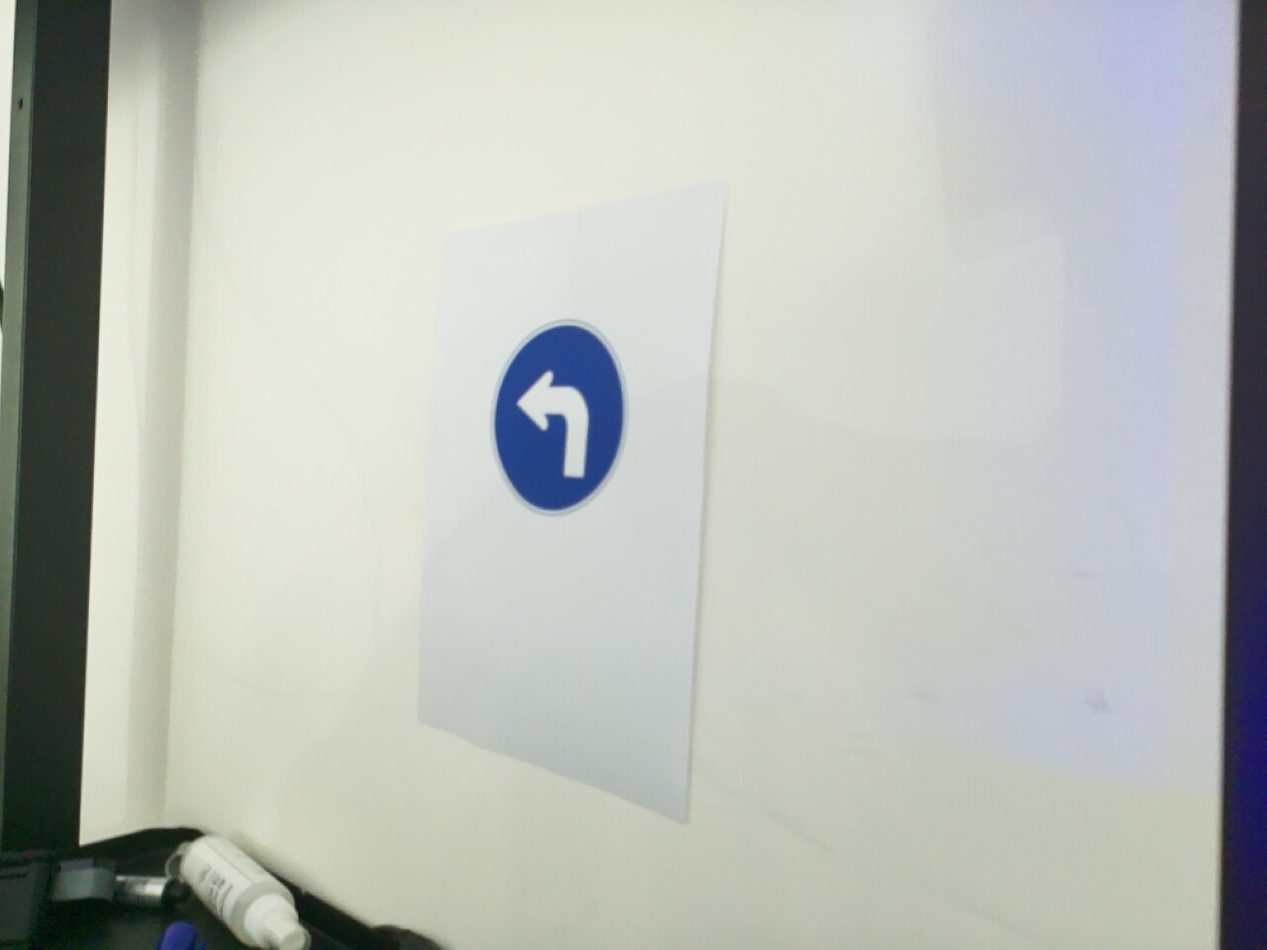left_turn: (488, 319, 630, 518)
